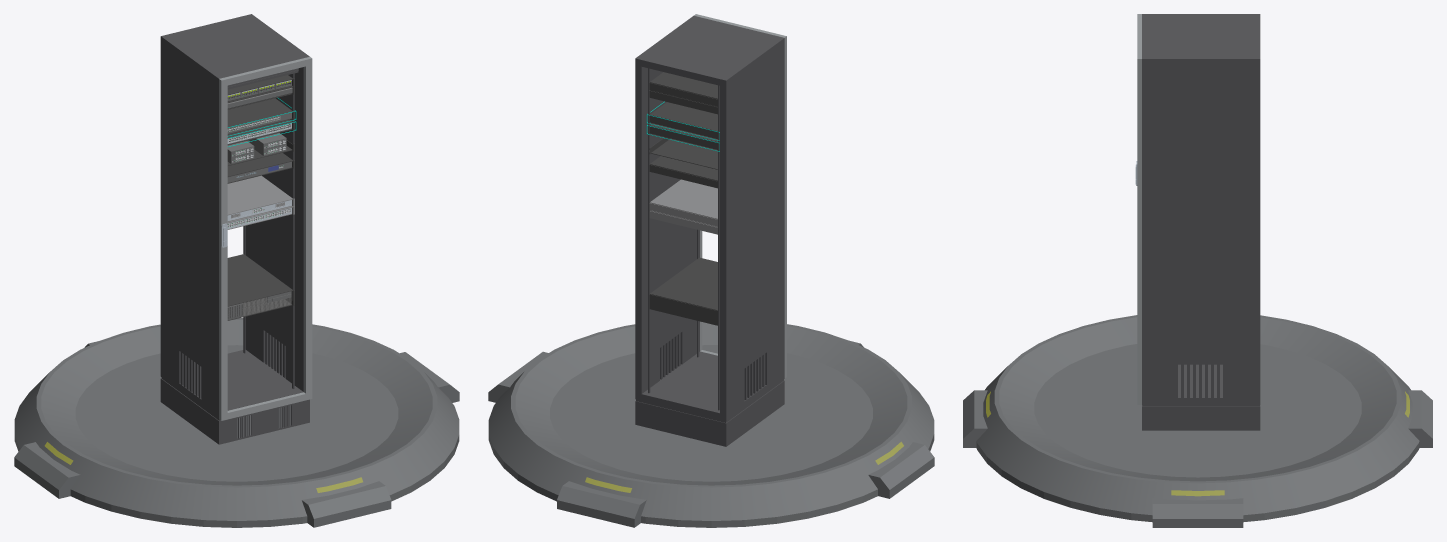
The picture shows the model from 3 angles, left to right: view 1: azimuth 30°, elevation 25°; view 2: azimuth 150°, elevation 25°; view 3: azimuth 270°, elevation 25°; orthographic projection.
Visible parts, largest first — view 1: Wyjf_Jg_Steel_Blue_005, JF_dgGuiZi_Gray_005, JF_dgMenKuang_005, JG_E_ChouTi_Black_001, JG_E_Steel_Black_001, JG_E_ChouTi_White_001, JG_E_03_ChouTi_White_001, JG_E_White_001, JG_E_Gray_001, JG_E_KongDong_001, JG_E_04_ChouTi_Black_001; view 2: Wyjf_Jg_Steel_Blue_005, JF_dgGuiZi_Gray_005, JG_E_ChouTi_Black_001, JG_E_ChouTi_White_001, JG_E_03_ChouTi_White_001, JF_dgMenKuang_005, JG_E_04_ChouTi_Black_001; view 3: Wyjf_Jg_Steel_Blue_005, JF_dgGuiZi_Gray_005, JF_dgMenKuang_005.
Boxes of the visible parts, left/top/right/bottom form: Wyjf_Jg_Steel_Blue_005: left=14, top=318, right=459, bottom=527; JF_dgGuiZi_Gray_005: left=160, top=14, right=309, bottom=444; JF_dgMenKuang_005: left=219, top=57, right=312, bottom=420; JG_E_ChouTi_Black_001: left=227, top=75, right=294, bottom=320; JG_E_Steel_Black_001: left=227, top=80, right=292, bottom=320; JG_E_ChouTi_White_001: left=227, top=175, right=294, bottom=229; JG_E_03_ChouTi_White_001: left=227, top=98, right=294, bottom=134; JG_E_White_001: left=227, top=80, right=291, bottom=228; JG_E_Gray_001: left=227, top=139, right=290, bottom=227; JG_E_KongDong_001: left=231, top=202, right=291, bottom=315; JG_E_04_ChouTi_Black_001: left=227, top=119, right=294, bottom=145; Wyjf_Jg_Steel_Blue_005: left=488, top=322, right=934, bottom=527; JF_dgGuiZi_Gray_005: left=635, top=15, right=784, bottom=446; JG_E_ChouTi_Black_001: left=649, top=72, right=717, bottom=325; JG_E_ChouTi_White_001: left=649, top=179, right=717, bottom=234; JG_E_03_ChouTi_White_001: left=649, top=102, right=717, bottom=138; JF_dgMenKuang_005: left=694, top=14, right=786, bottom=378; JG_E_04_ChouTi_Black_001: left=649, top=123, right=717, bottom=149; Wyjf_Jg_Steel_Blue_005: left=963, top=315, right=1432, bottom=527; JF_dgGuiZi_Gray_005: left=1142, top=14, right=1260, bottom=430; JF_dgMenKuang_005: left=1137, top=14, right=1141, bottom=404.
Size of what is drawn, in the model's own units: 0.0614 by 0.0566 by 0.0614.
16 materials, 1 textured.
